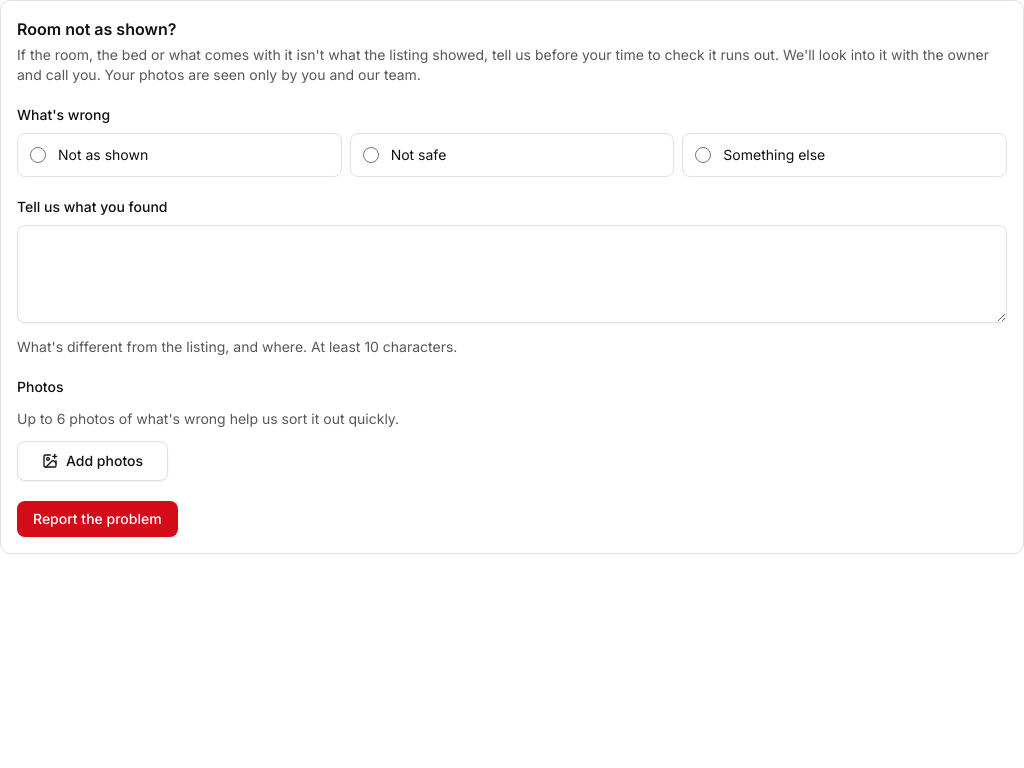
Scenario: DisputeForm › sends nothing until it says what's wrong, in a few words
This screenshot has width=1024, height=768.
Click the button "Report the problem" at (97, 519), box [17,501,178,537]
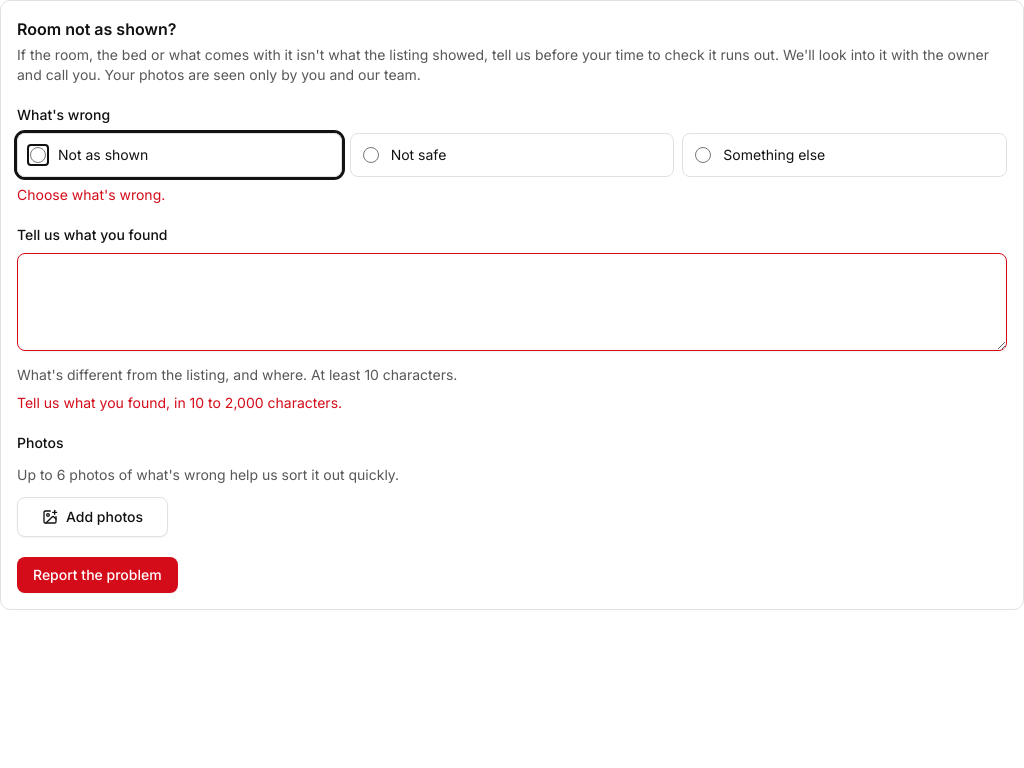
Now the text "Choose what's wrong." is shown, box [17,186,165,203]
Now the text "Tell us what you found, in 10 to 2,000 characters." is shown, box [17,394,342,411]
